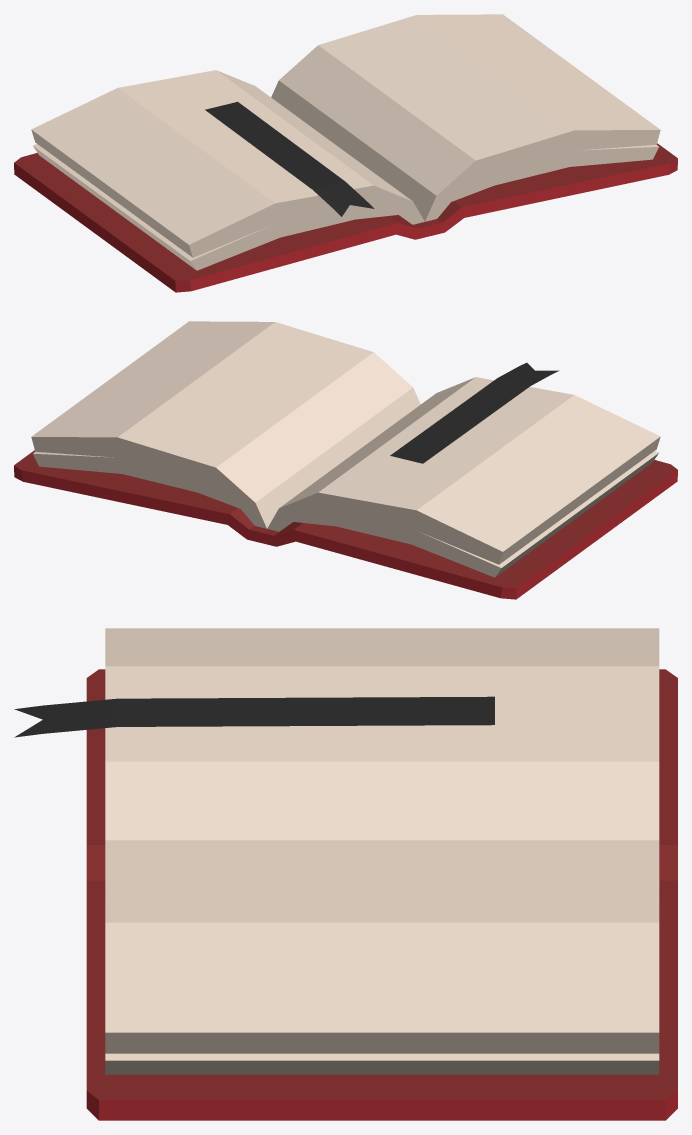
The model's file is fantasy_book-open.fbx.
3 views of the same model, one above another, from view 1: azimuth 30°, elevation 25°; view 2: azimuth 150°, elevation 25°; view 3: azimuth 270°, elevation 25° (orthographic). The views are drawn at different scales.
Parts seen in each view (by area): view 1: fantasy_book_open; view 2: fantasy_book_open; view 3: fantasy_book_open.
Part boxes in pixels (left/top/right/bottom): fantasy_book_open: left=14, top=14, right=677, bottom=292; fantasy_book_open: left=14, top=321, right=677, bottom=599; fantasy_book_open: left=14, top=628, right=677, bottom=1120.
Size of the model in its own units: 200 by 25.82 by 130.
